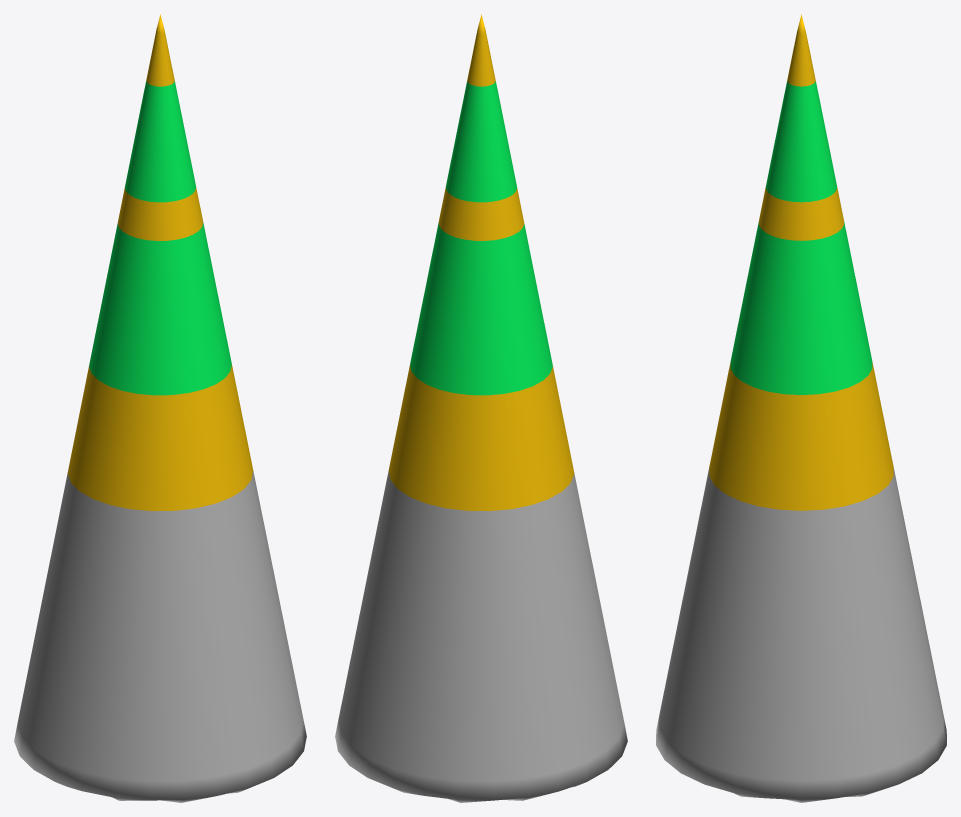
The model's file is coneDepart.fbx.
3 views of the same model, side by side, from view 1: azimuth 30°, elevation 25°; view 2: azimuth 150°, elevation 25°; view 3: azimuth 270°, elevation 25° (orthographic).
Parts seen in each view (by area): view 1: pCone1; view 2: pCone1; view 3: pCone1.
Part boxes in pixels (box(x1,y1,x2,y2)): pCone1: box(14, 14, 306, 802); pCone1: box(335, 14, 627, 802); pCone1: box(656, 14, 946, 802).
Size of the model in its own units: 4.49 by 12.54 by 4.45.
